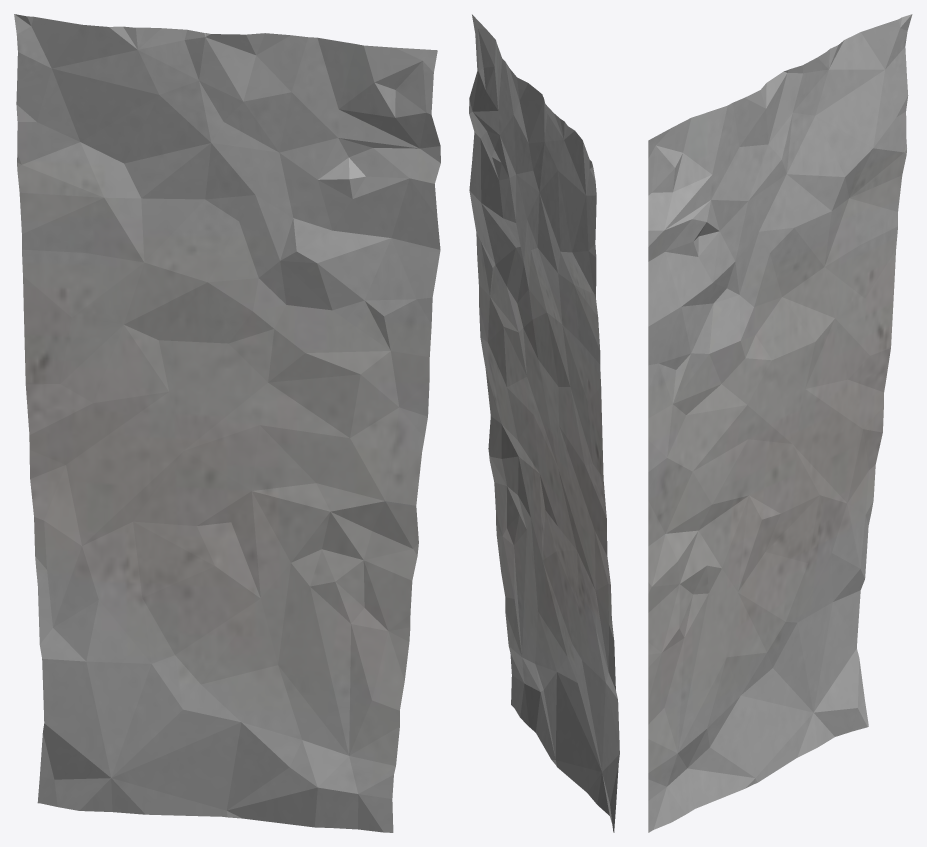
The picture shows the model from 3 angles, left to right: view 1: azimuth 30°, elevation 25°; view 2: azimuth 150°, elevation 25°; view 3: azimuth 270°, elevation 25°; orthographic projection. The views are drawn at different scales.
Size of the model in its own units: 0.3222 by 0.8374 by 0.2813.
Materials: 1 (1 with a texture image).
